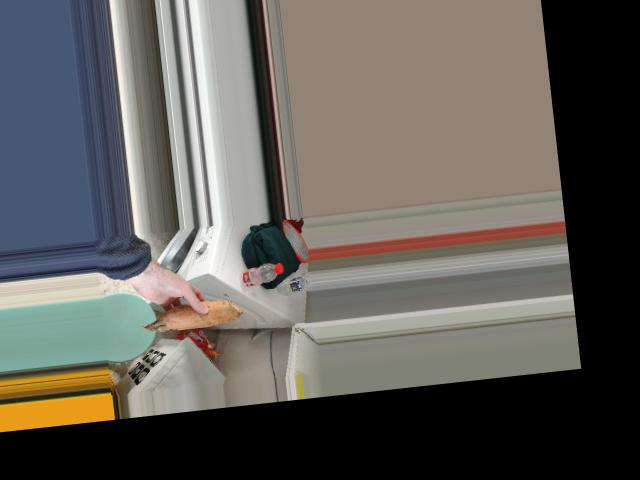sweet_potato: (139, 292, 236, 336)
